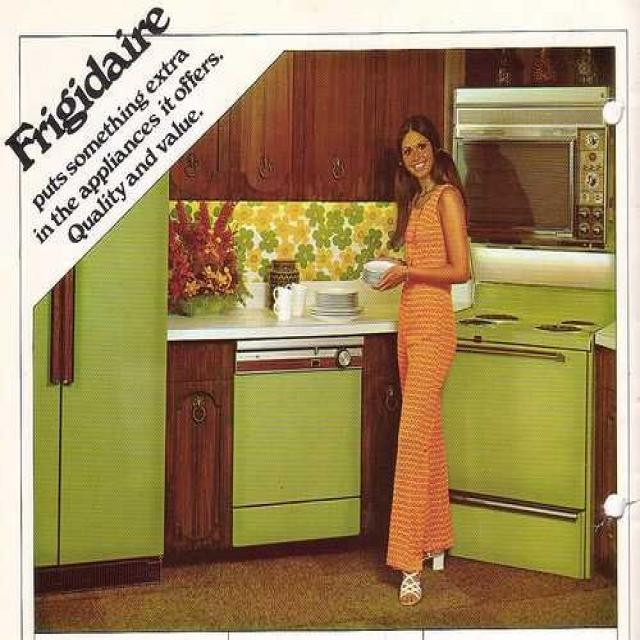refrigerator: (32, 148, 170, 570)
